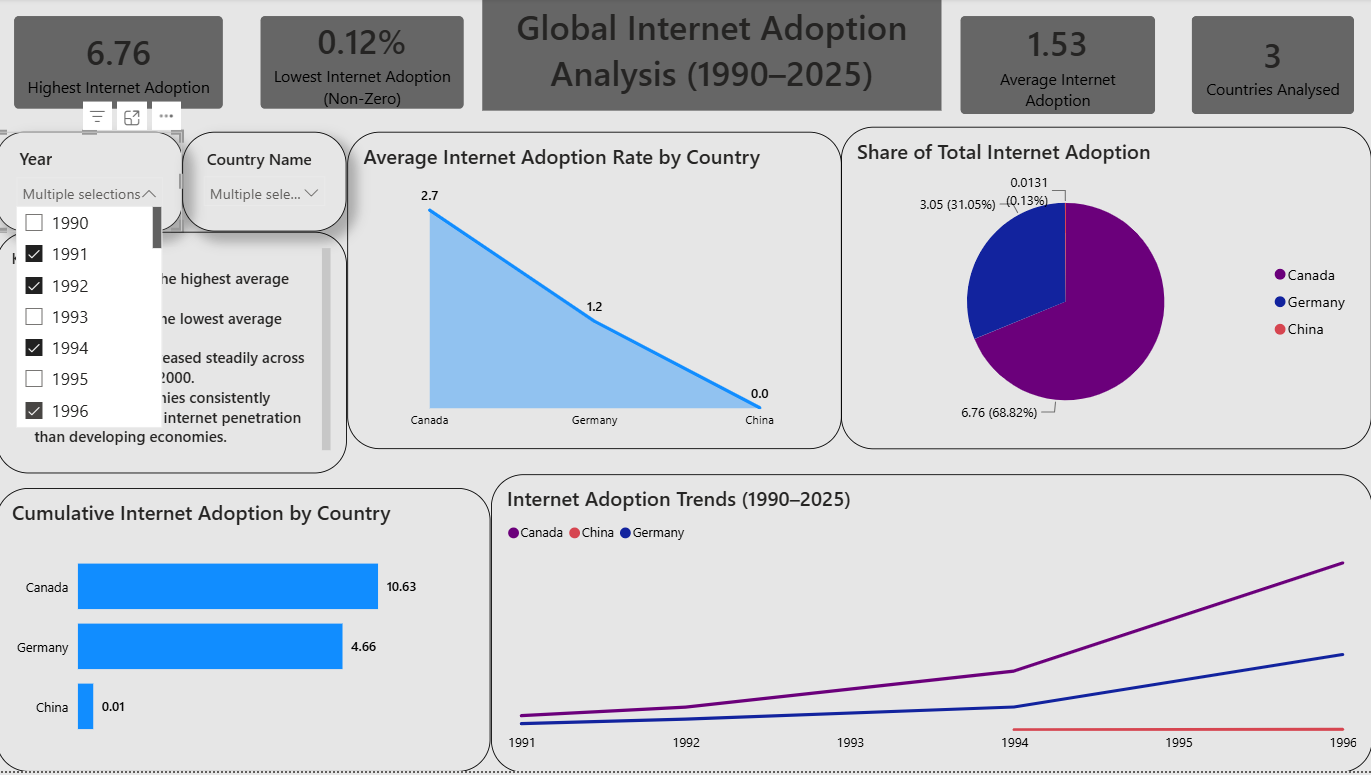

What the dashboard file says about the page in this screenshot:
{"tool":"powerbi","page":{"name":"Page 1","canvas":[1280,720],"ordinal":0},"visuals":[{"type":"cardVisual","fields":{"Data":["Cleaned_Internet_Indicators.Lowest Internet Adoption (Non-Zero)"]},"box":[228.8,0,223.8,120],"z":0},{"type":"clusteredBarChart","title":"Cumulative Internet Adoption by Country","fields":{"Category":["Cleaned_Internet_Indicators.Country Name"],"Y":["Sum(Cleaned_Internet_Indicators.Value)"]},"box":[0,456.2,460,263.8],"z":1000},{"type":"lineChart","title":"Internet Adoption Trends (1990–2025)","fields":{"Y":["Cleaned_Internet_Indicators.Average Internet Users"],"Category":["Cleaned_Internet_Indicators.Year"],"Series":["Cleaned_Internet_Indicators.Country Name"]},"box":[460,442.5,820,277.5],"z":2000},{"type":"cardVisual","fields":{"Data":["Cleaned_Internet_Indicators.Highest Internet Adoption"]},"box":[0,0,228.8,120],"z":3000},{"type":"cardVisual","fields":{"Data":["Cleaned_Internet_Indicators.Average Internet Users"]},"box":[880,0,215,125],"z":4000},{"type":"cardVisual","fields":{"Data":["Cleaned_Internet_Indicators.Countries Analysed"]},"box":[1095,0,185,125],"z":5000},{"type":"areaChart","title":"Average Internet Adoption Rate by Country","fields":{"Category":["Cleaned_Internet_Indicators.Country Name"],"Y":["Cleaned_Internet_Indicators.Average Internet Users"]},"box":[326.2,125,460,295],"z":6000},{"type":"pieChart","title":"Share of Total Internet Adoption","fields":{"Category":["Cleaned_Internet_Indicators.Country Name"],"Y":["Cleaned_Internet_Indicators.Highest Internet Adoption"]},"box":[786.2,120,493.8,300],"z":7000},{"type":"slicer","fields":{"Values":["Cleaned_Internet_Indicators.Country Name"]},"box":[173.8,125,152.5,92.5],"z":8000},{"type":"slicer","fields":{"Values":["Cleaned_Internet_Indicators.Year"]},"box":[0,125,173.8,92.5],"z":9000},{"type":"textbox","box":[0,217.5,326.2,225],"z":10000},{"type":"textbox","box":[452.5,0,427.5,105],"z":11000}]}

Visuals, with their boxes in screenshot pixels (x1, y1, x2, y2):
cardVisual - Cleaned_Internet_Indicators.Lowest Internet Adoption (Non-Zero): 245:0:482:102
"Cumulative Internet Adoption by Country" clusteredBarChart: 4:457:489:736
"Internet Adoption Trends (1990–2025)" lineChart: 489:442:1356:736
cardVisual - Cleaned_Internet_Indicators.Highest Internet Adoption: 4:0:245:102
cardVisual - Cleaned_Internet_Indicators.Average Internet Users: 933:0:1160:107
cardVisual - Cleaned_Internet_Indicators.Countries Analysed: 1160:0:1356:107
"Average Internet Adoption Rate by Country" areaChart: 348:107:834:419
"Share of Total Internet Adoption" pieChart: 834:102:1356:419
slicer - Cleaned_Internet_Indicators.Country Name: 187:107:348:205
slicer - Cleaned_Internet_Indicators.Year: 4:107:187:205
textbox: 4:205:348:442
textbox: 482:0:933:86
